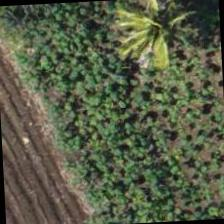Kelapa_Sawit: (118, 0, 213, 73)
